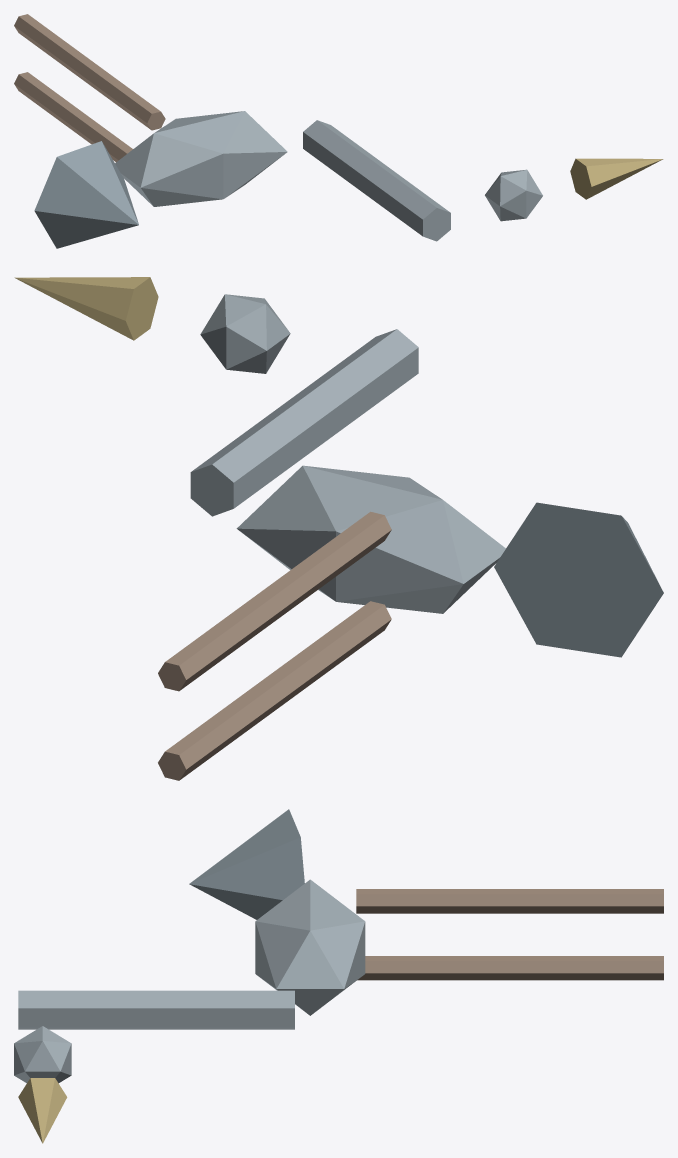
File: heron.glb
3 renders of one model, top to bottom at view 1: azimuth 30°, elevation 25°; view 2: azimuth 150°, elevation 25°; view 3: azimuth 270°, elevation 25°, orthographic. The views are drawn at different scales.
Parts seen in each view (by area): view 1: world; view 2: world; view 3: world.
Boxes of the visible parts, x1,y1,x2,y2 form: world: (14,14,663,248); world: (14,277,663,780); world: (14,809,663,1143).
Size of the model in its own units: 2.28 by 0.3811 by 2.11.
